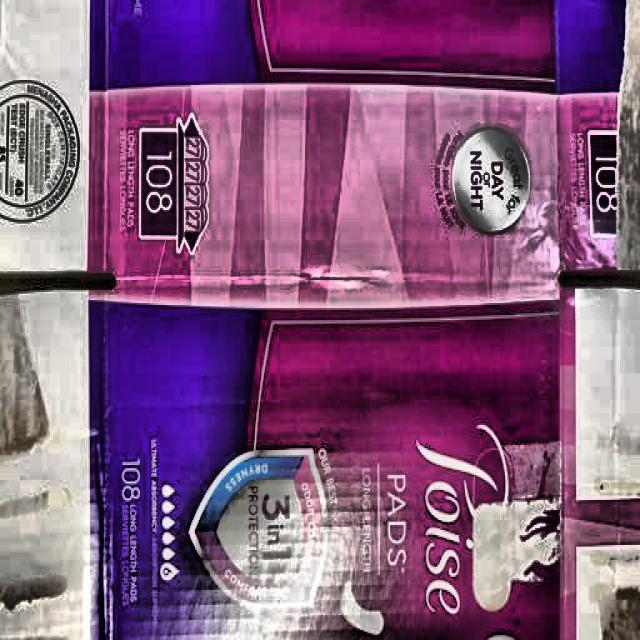cardboard: (1, 0, 617, 640)
